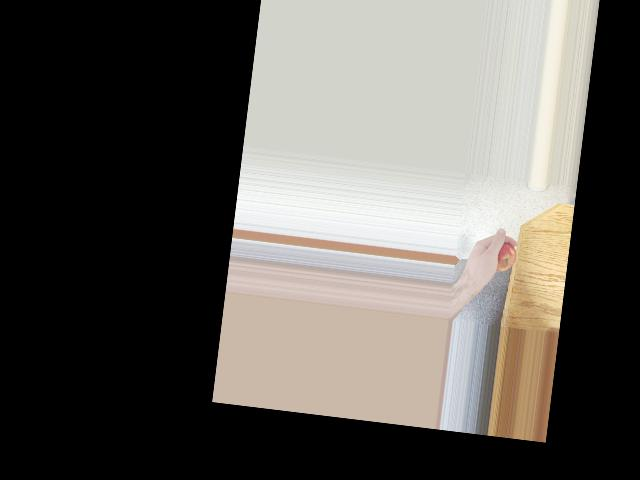apple: (483, 237, 518, 279)
